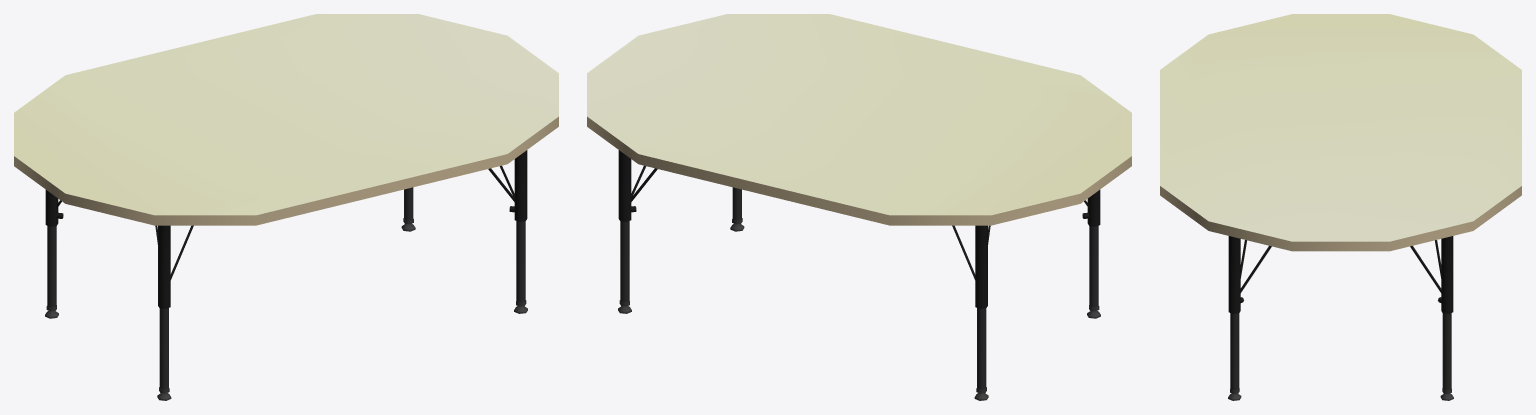
The model's file is CR_caf_table_003.FBX.
3 views of the same model, side by side, from view 1: azimuth 30°, elevation 25°; view 2: azimuth 150°, elevation 25°; view 3: azimuth 270°, elevation 25° (orthographic). The views are drawn at different scales.
Visible parts, largest first — view 1: CR_caf_table_003; view 2: CR_caf_table_003; view 3: CR_caf_table_003.
Part boxes in pixels (bbox=[...]): CR_caf_table_003: bbox=[14, 14, 558, 400]; CR_caf_table_003: bbox=[587, 14, 1131, 400]; CR_caf_table_003: bbox=[1160, 14, 1521, 400].
Size of the model in its own units: 145 by 55.78 by 97.33.
